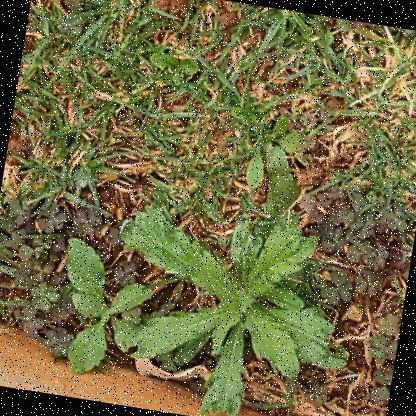Weeds: (93, 191, 369, 415), (45, 238, 172, 386), (218, 93, 307, 199), (141, 46, 200, 88)
